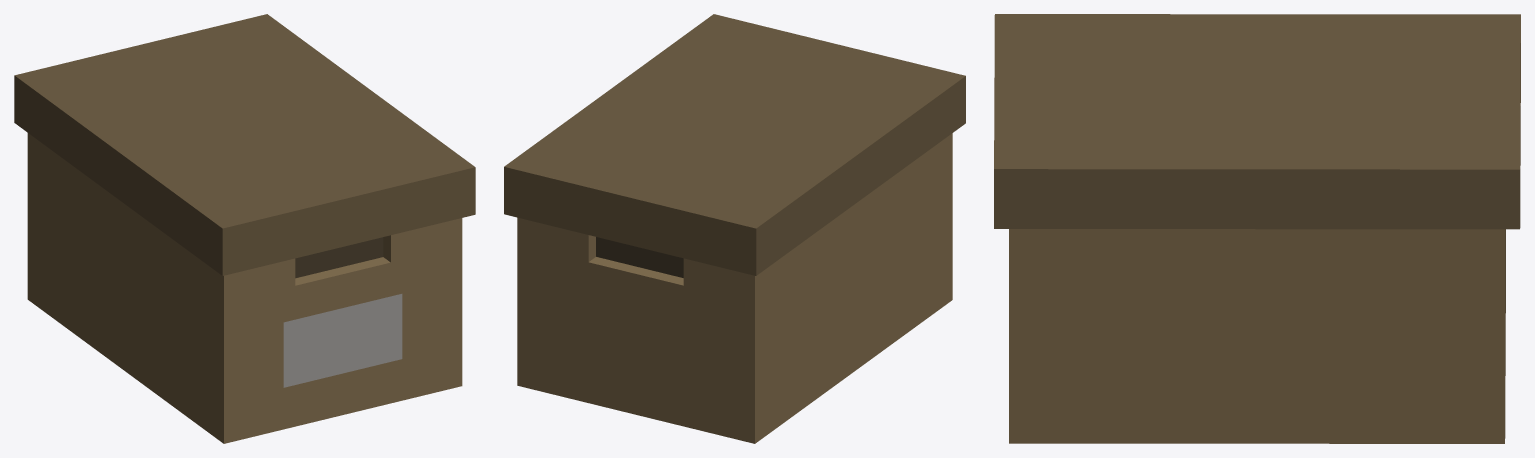
The model's file is SM_Prop_CardboardBox_02.glb.
3 views of the same model, side by side, from view 1: azimuth 30°, elevation 25°; view 2: azimuth 150°, elevation 25°; view 3: azimuth 270°, elevation 25° (orthographic). The views are drawn at different scales.
Visible parts, largest first — view 1: SM_Prop_CardboardBox_02; view 2: SM_Prop_CardboardBox_02; view 3: SM_Prop_CardboardBox_02.
Boxes of the visible parts, x1=… form: SM_Prop_CardboardBox_02: x1=14, y1=14, x2=475, y2=443; SM_Prop_CardboardBox_02: x1=504, y1=14, x2=965, y2=443; SM_Prop_CardboardBox_02: x1=994, y1=14, x2=1520, y2=443.
Bounding box in the file's own units: 0.3296 × 0.2754 × 0.4717.
1 material, 1 textured.
